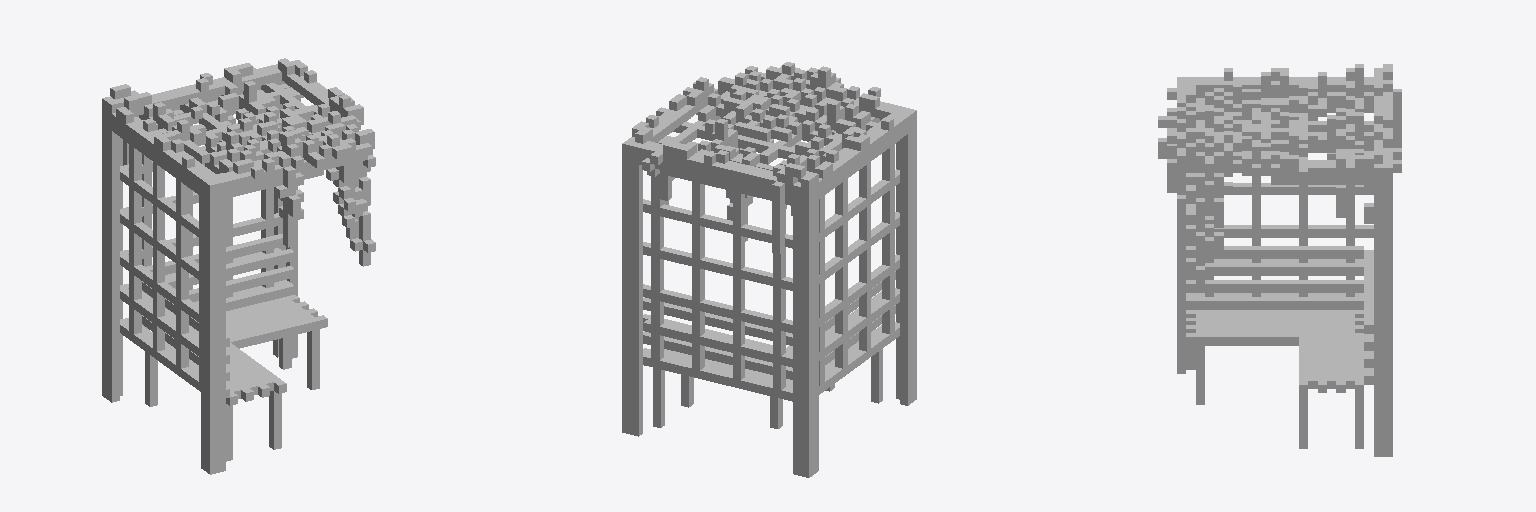
Rendered from Gazebo.obj.
The picture shows the model from 3 angles: view 1: azimuth 30°, elevation 25°; view 2: azimuth 150°, elevation 25°; view 3: azimuth 270°, elevation 25°; orthographic projection.
Parts seen in each view (by area): view 1: object 1; view 2: object 1; view 3: object 1.
Part boxes in pixels (x1,y1,x2,y2): object 1: (102,58,375,474); object 1: (622,62,916,477); object 1: (1158,64,1401,456).
Bounding box in the file's own units: 2.4 × 3.7 × 2.6.